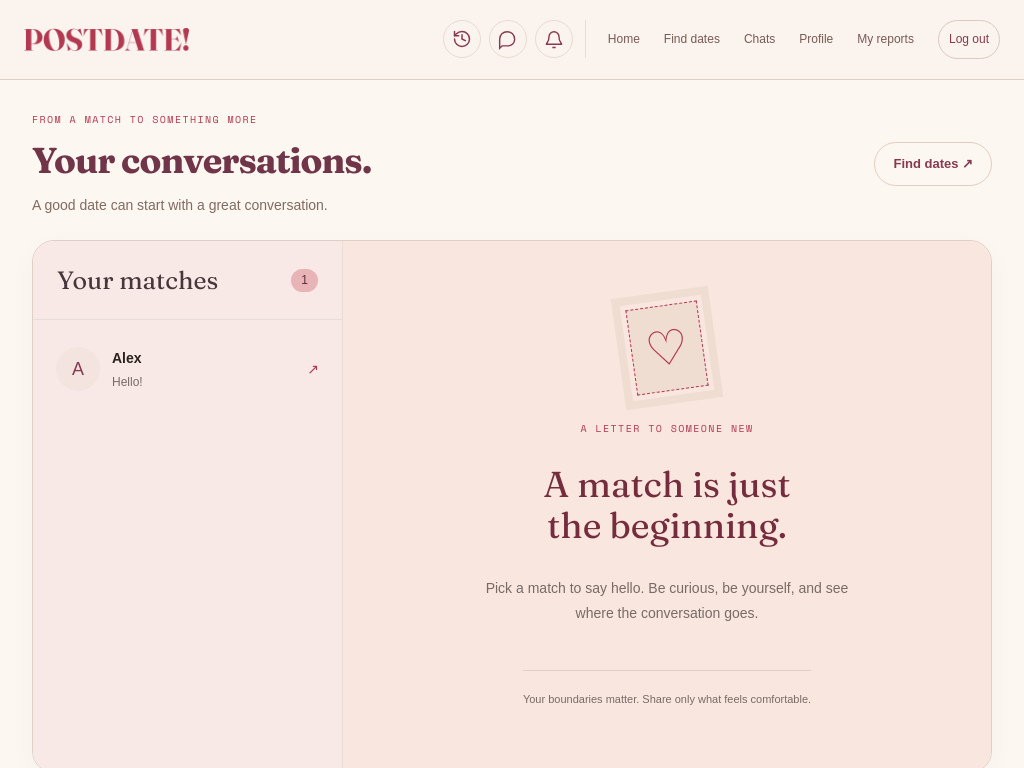
Test: opens a match, persists a message, and displays server-confirmed text
The image size is (1024, 768).
Click the button with aria-label "Chat with Alex" at [78, 369], box left=43, top=330, right=332, bottom=409
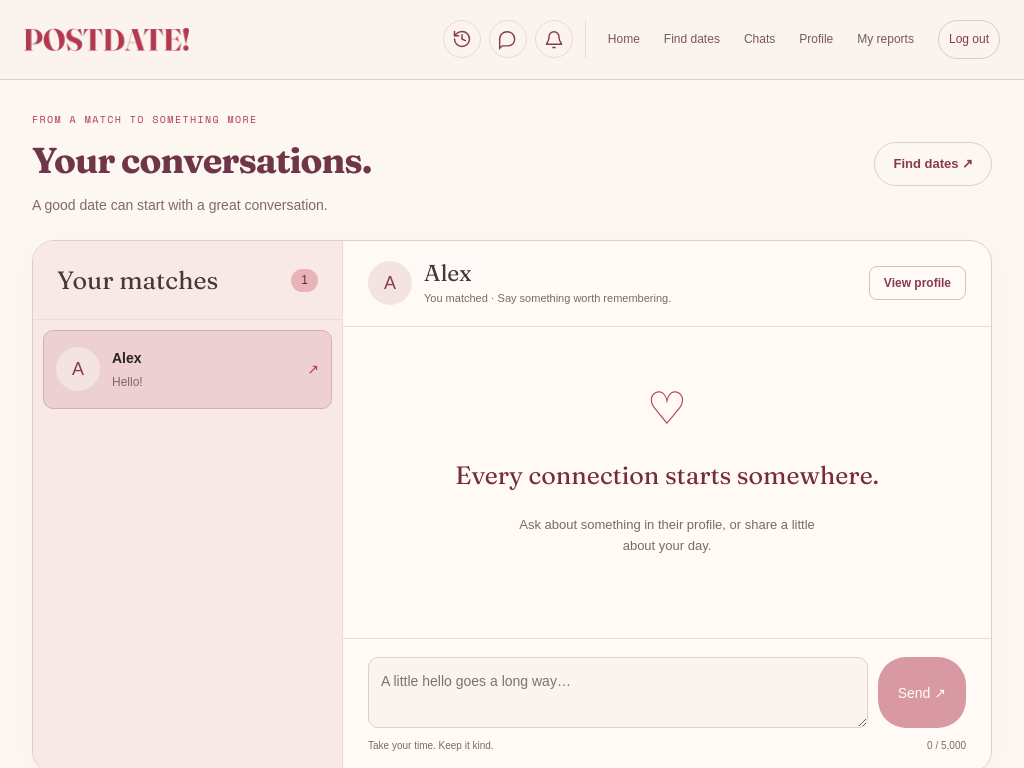
Check: the text box named "Message to Alex" is enabled
Type "Hi Alex" into the text box named "Message to Alex" at [618, 693], box left=368, top=657, right=868, bottom=728
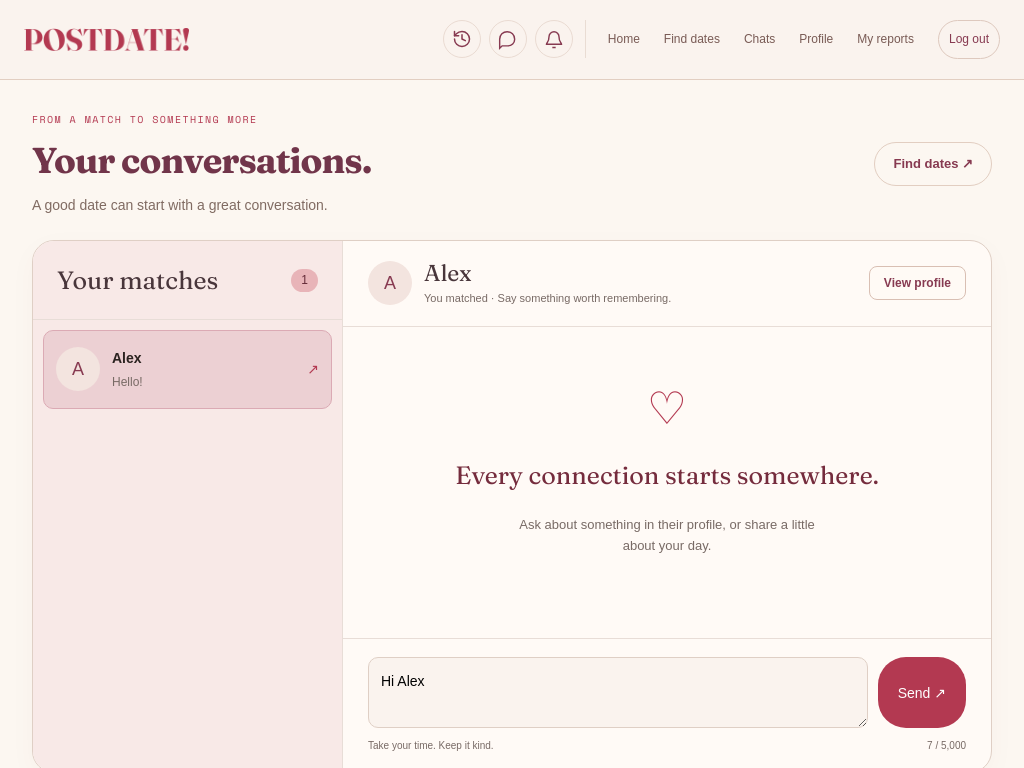
Click the button "Send ↗" at [922, 693], box left=878, top=657, right=966, bottom=728
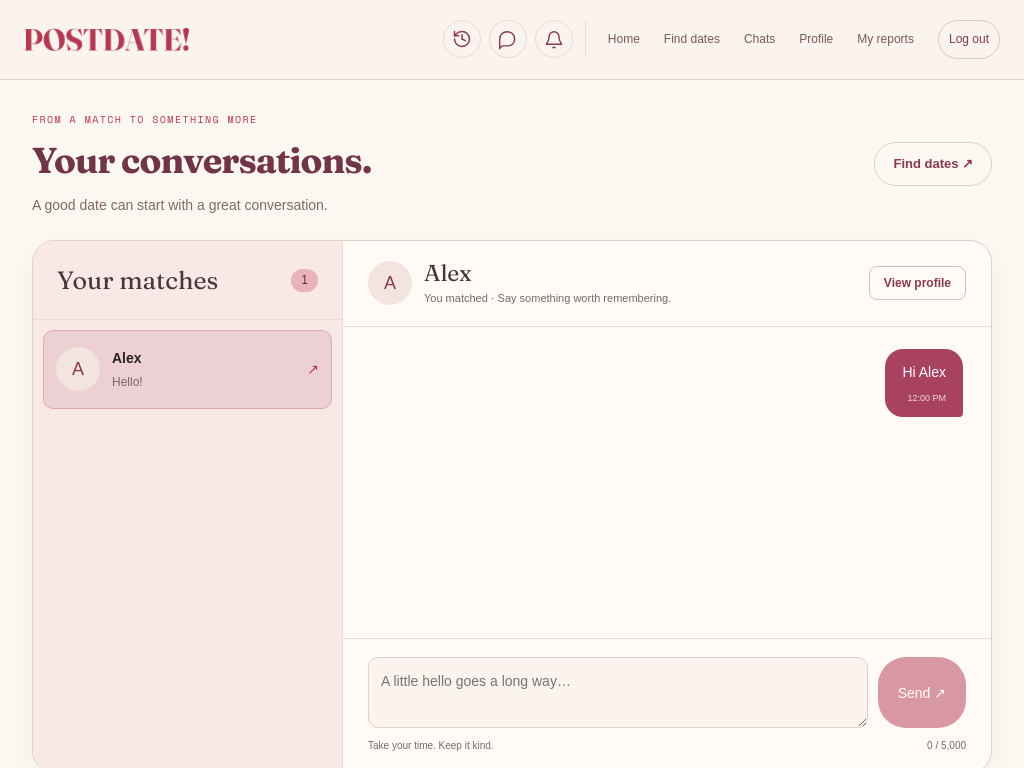
Check: the text "Hi Alex" is shown, box left=902, top=361, right=946, bottom=384
Check: the text box "Hi Alex" is empty, box left=368, top=657, right=868, bottom=728
